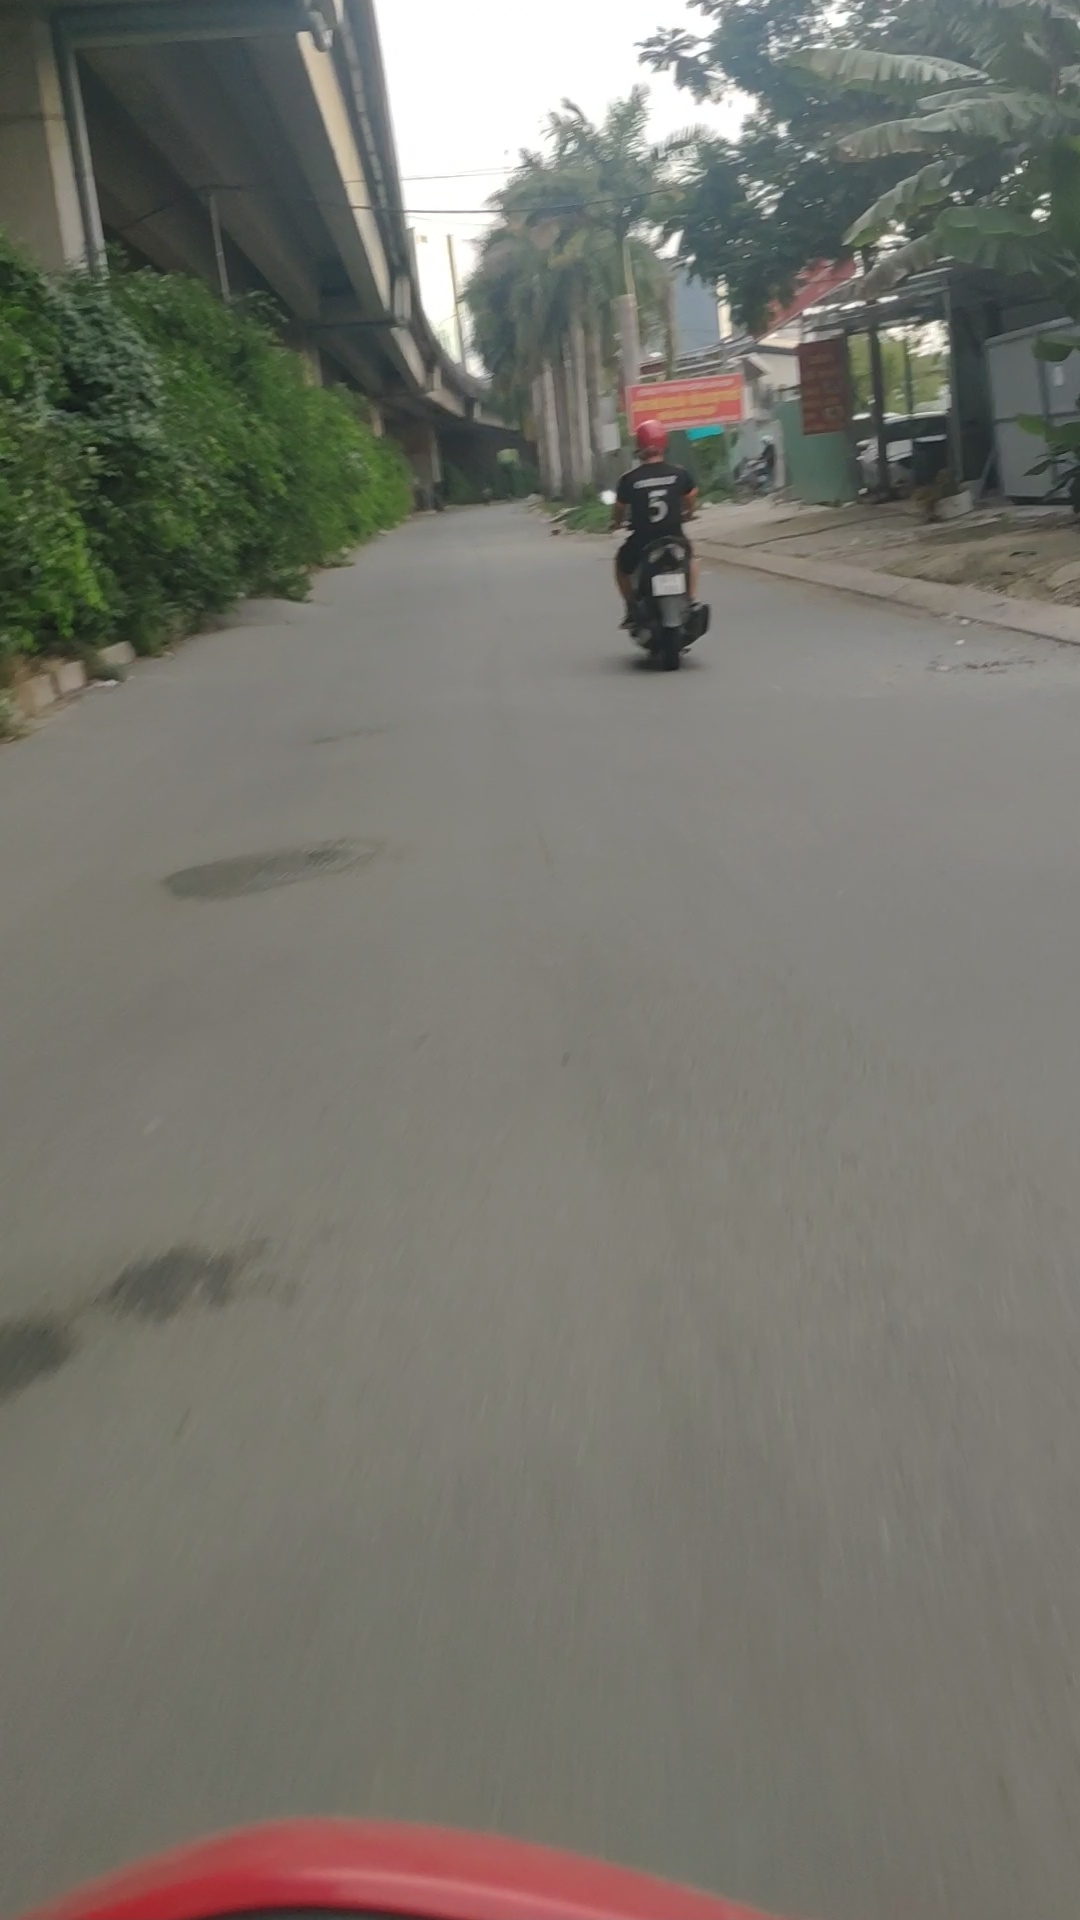hole: (160, 837, 377, 909), (916, 651, 1043, 680)
